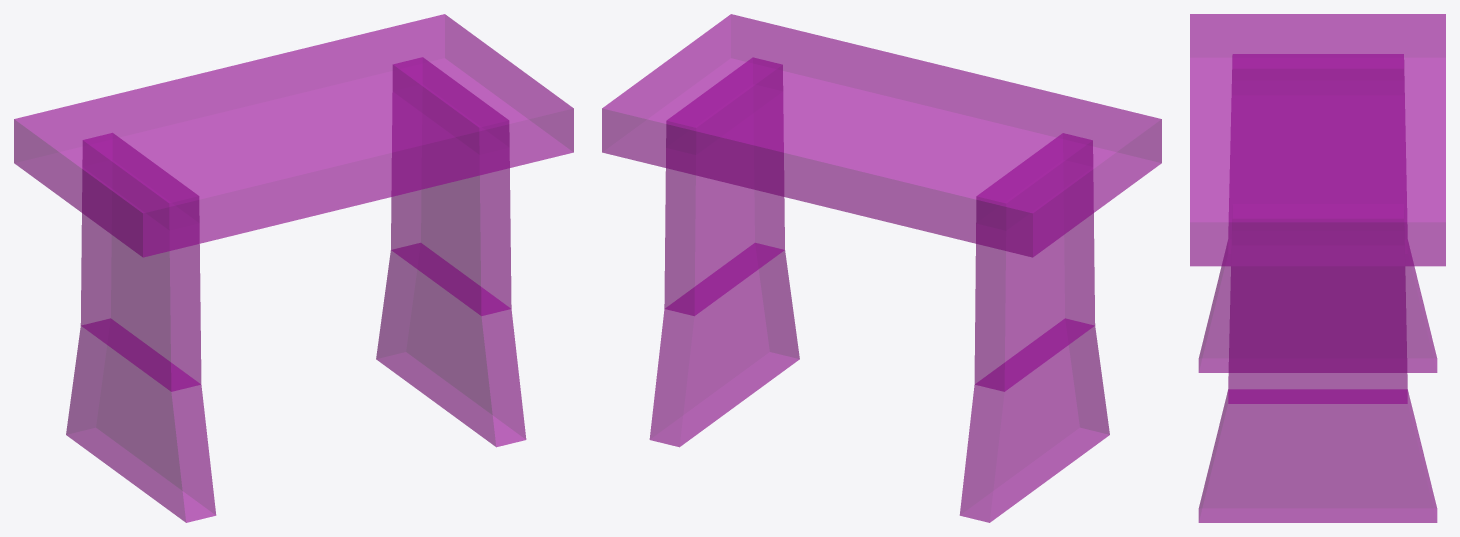
The model's file is SM_Prop_Trellis_Swing_01_Collision.fbx.
The picture shows the model from 3 angles, left to right: view 1: azimuth 30°, elevation 25°; view 2: azimuth 150°, elevation 25°; view 3: azimuth 270°, elevation 25°; orthographic projection.
Parts seen in each view (by area): view 1: SM_Prop_Trellis_Swing_01_Collision; view 2: SM_Prop_Trellis_Swing_01_Collision; view 3: SM_Prop_Trellis_Swing_01_Collision.
Boxes of the visible parts, x1,y1,x2,y2 form: SM_Prop_Trellis_Swing_01_Collision: (14, 14, 573, 522); SM_Prop_Trellis_Swing_01_Collision: (602, 14, 1161, 522); SM_Prop_Trellis_Swing_01_Collision: (1190, 14, 1445, 522).
Bounding box in the file's own units: 390 × 281 × 202.
